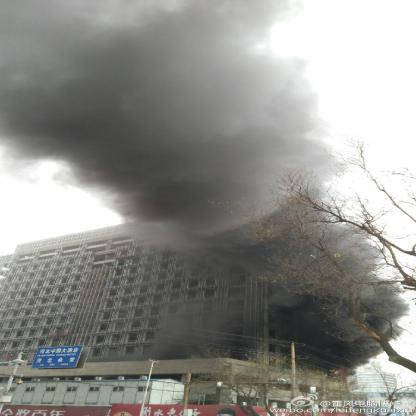smoke: (6, 0, 290, 162), (76, 158, 281, 242), (280, 280, 408, 354), (147, 300, 250, 354)
